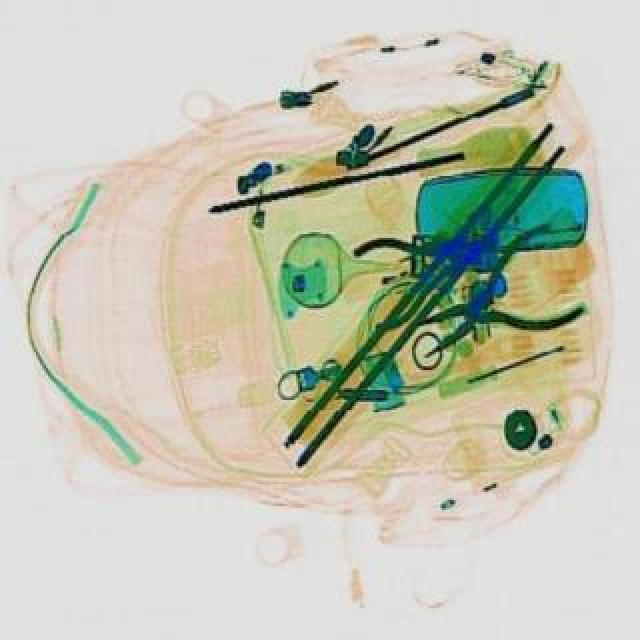wrench: (388, 218, 584, 366), (344, 204, 508, 332)
